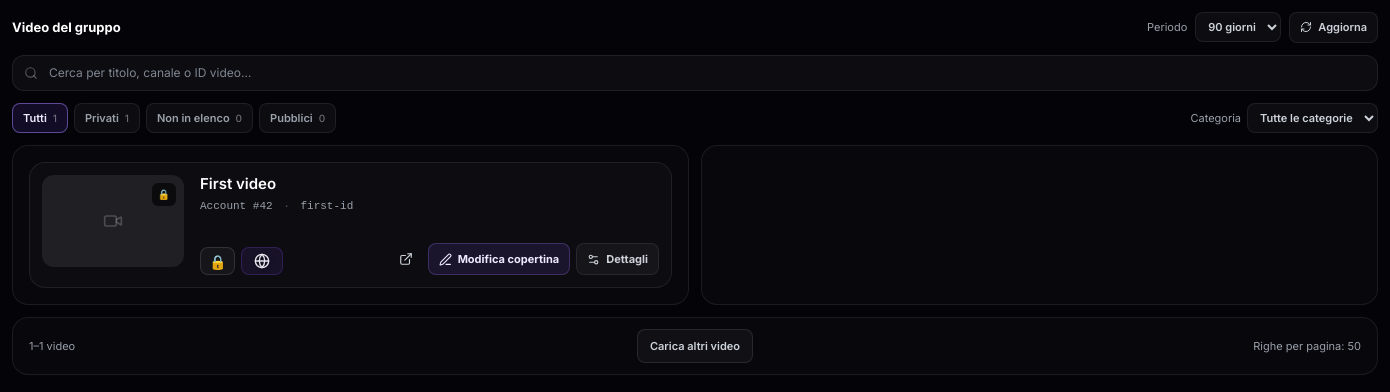
Test case: GroupYouTubeVideos › loads the next offset page and appends videos without refetching page one
The width and height of the screenshot is (1390, 392).
expect the text "First video" is shown: met, box [200, 174, 276, 193]
What coordinates should you click on to do the following:
click the button with test id "group-youtube-videos-load-more"
I would click on:
 (695, 346)
Its box is [637, 329, 753, 363].
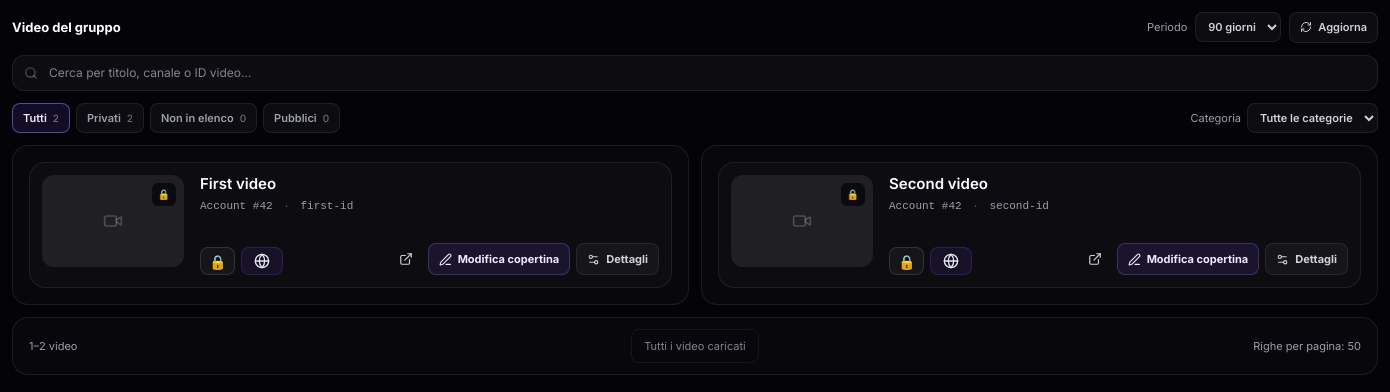
expect the text "First video" is shown: met, box [200, 174, 276, 193]
expect the text "Second video" is shown: met, box [889, 174, 988, 193]
expect the button with test id "group-youtube-videos-load-more" is gone: met
